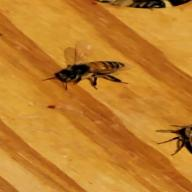Bee: (33, 46, 144, 93)
